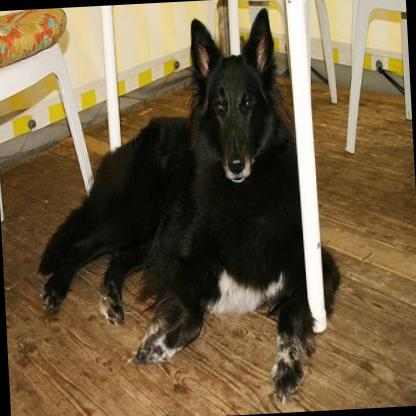groenendael: (24, 2, 344, 415)
